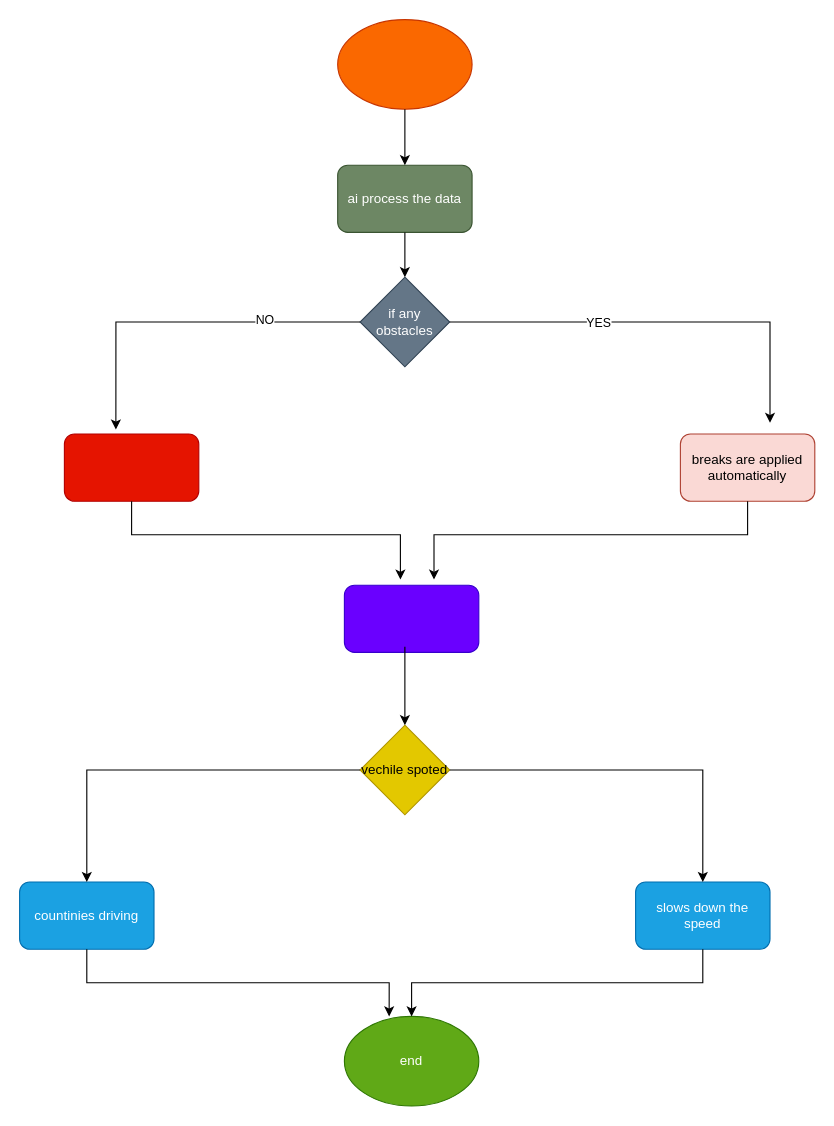
This 834x1126 diagram has some shape labels left out. Here are the shapes that lost their labels. From the top down, the centre of each, then its label:
At point 404,63: "camaras and sensors".
At point 131,467: "you can countinue driving".
At point 411,618: "blind spot detection".
